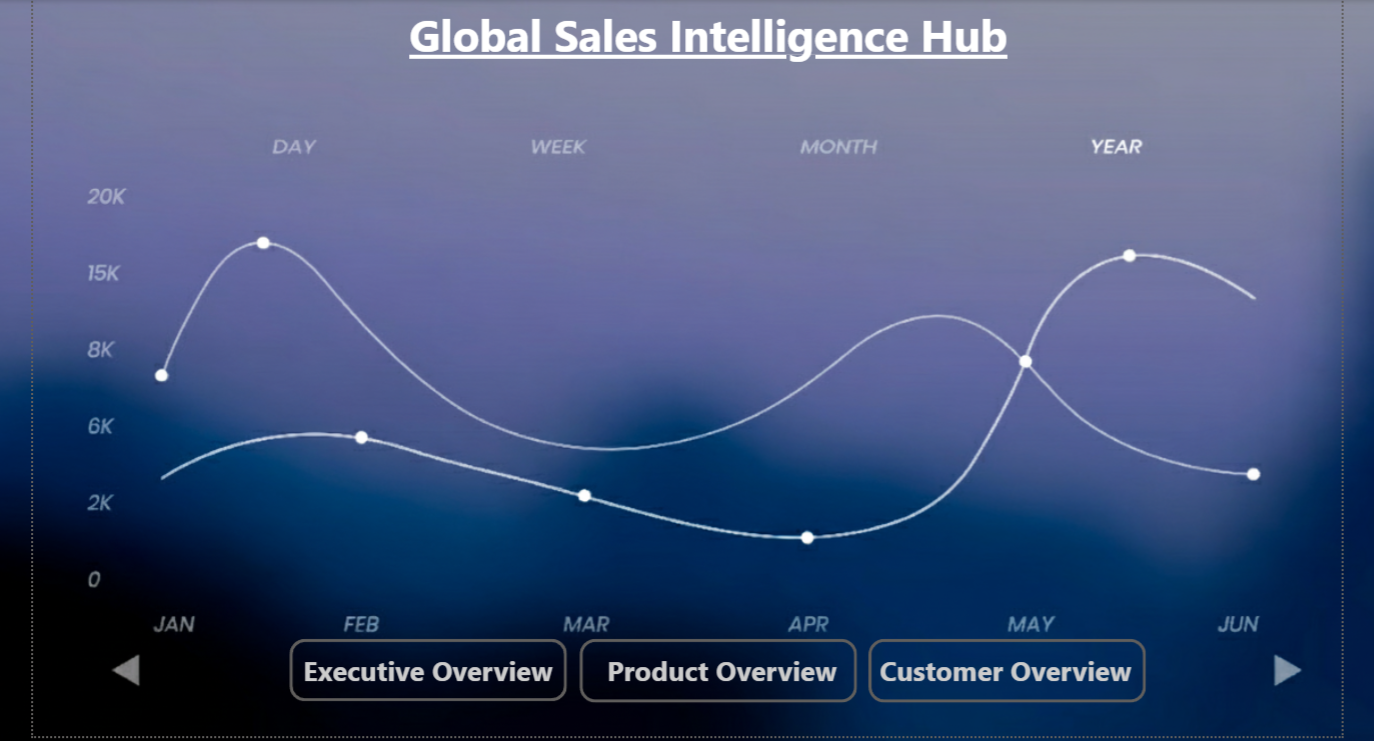

What the dashboard file says about the page in this screenshot:
{"tool":"powerbi","page":{"name":"Global Sales Intelligence Hub","canvas":[1280,720],"ordinal":0},"visuals":[{"type":"textbox","box":[358.3,0,604.1,74.6],"z":0},{"type":"actionButton","box":[250.7,624.9,271.5,61.1],"z":1000},{"type":"textbox","box":[259.2,632.2,278.8,47.7],"z":2000},{"type":"actionButton","box":[816.9,624.9,271.5,62.4],"z":3000},{"type":"actionButton","box":[534.4,624.9,271.5,62.4],"z":4000},{"type":"textbox","box":[556.4,632.2,278.8,47.7],"z":5000},{"type":"textbox","box":[823,632.2,278.8,47.7],"z":6000}]}

Visuals, with their boxes on the page's 1280x720 design canvas (x1, y1, x2, y2). These are canvas units, not pixel positions in the 1374x741 screenshot, which may show the page scaled, cropped or inside an application window:
textbox: [left=358, top=0, right=962, bottom=75]
actionButton: [left=251, top=625, right=522, bottom=686]
textbox: [left=259, top=632, right=538, bottom=680]
actionButton: [left=817, top=625, right=1088, bottom=687]
actionButton: [left=534, top=625, right=806, bottom=687]
textbox: [left=556, top=632, right=835, bottom=680]
textbox: [left=823, top=632, right=1102, bottom=680]
